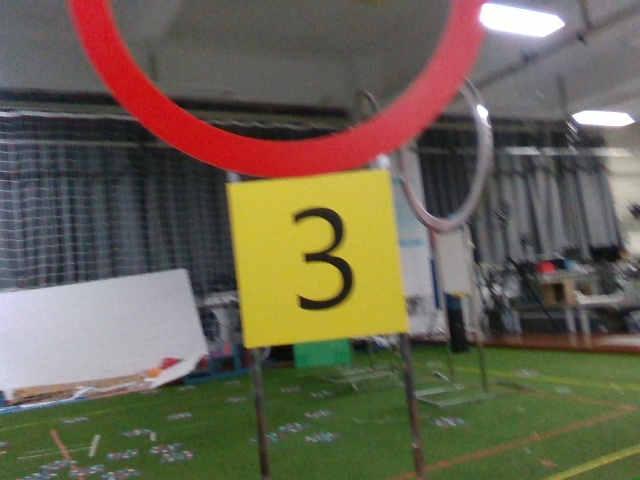target: (239, 186, 410, 346)
